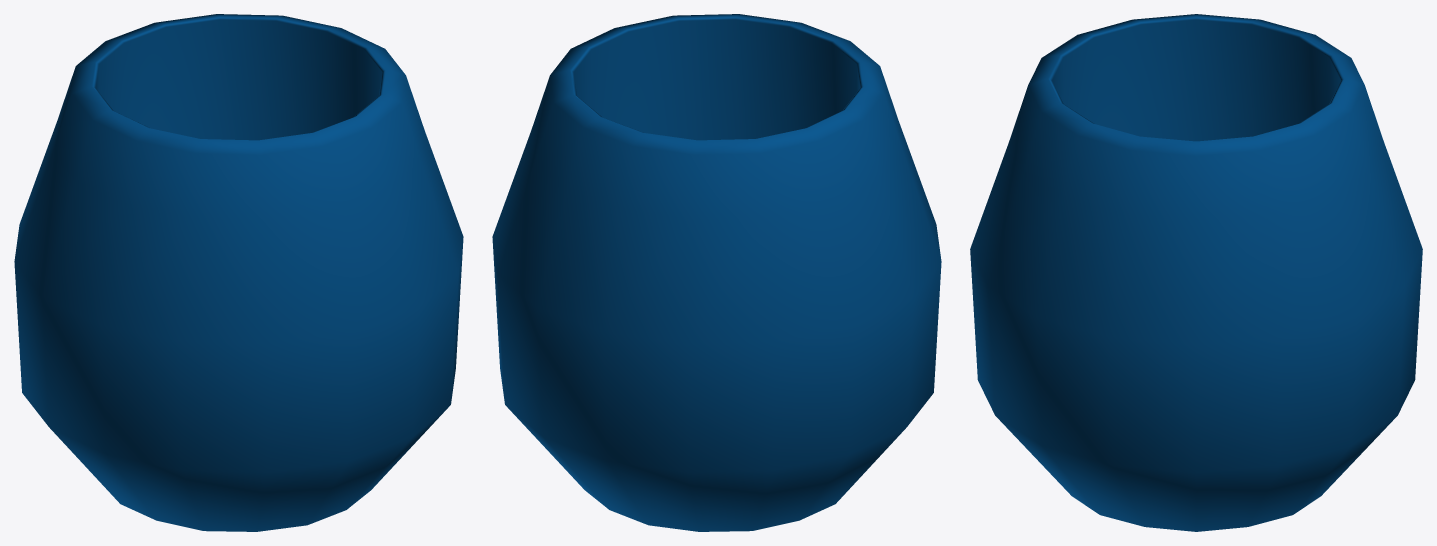
Rendered from Jar_04.fbx.
3 views of the same model, side by side, from view 1: azimuth 30°, elevation 25°; view 2: azimuth 150°, elevation 25°; view 3: azimuth 270°, elevation 25° (orthographic).
Parts seen in each view (by area): view 1: Jar_04; view 2: Jar_04; view 3: Jar_04.
Boxes of the visible parts, <box> form: Jar_04: <box>14,14,463,531</box>; Jar_04: <box>492,14,941,531</box>; Jar_04: <box>970,14,1422,531</box>.
Size of the model in its own units: 25.32 by 24.41 by 25.32.
